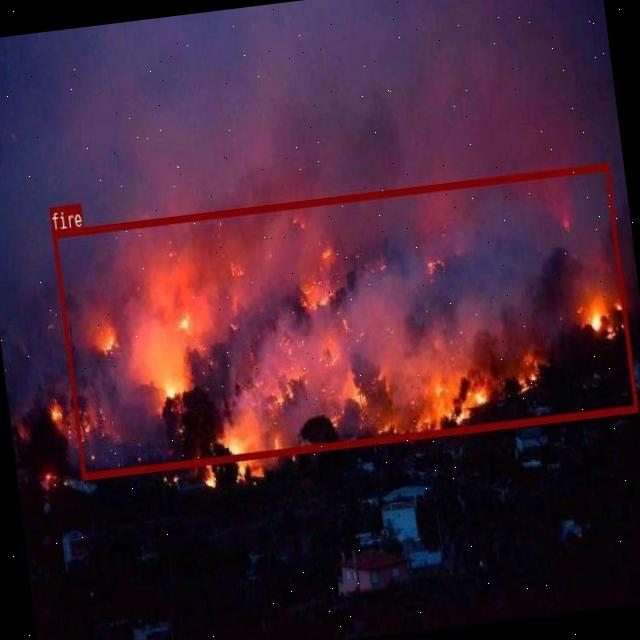fire: (51, 162, 637, 479)
